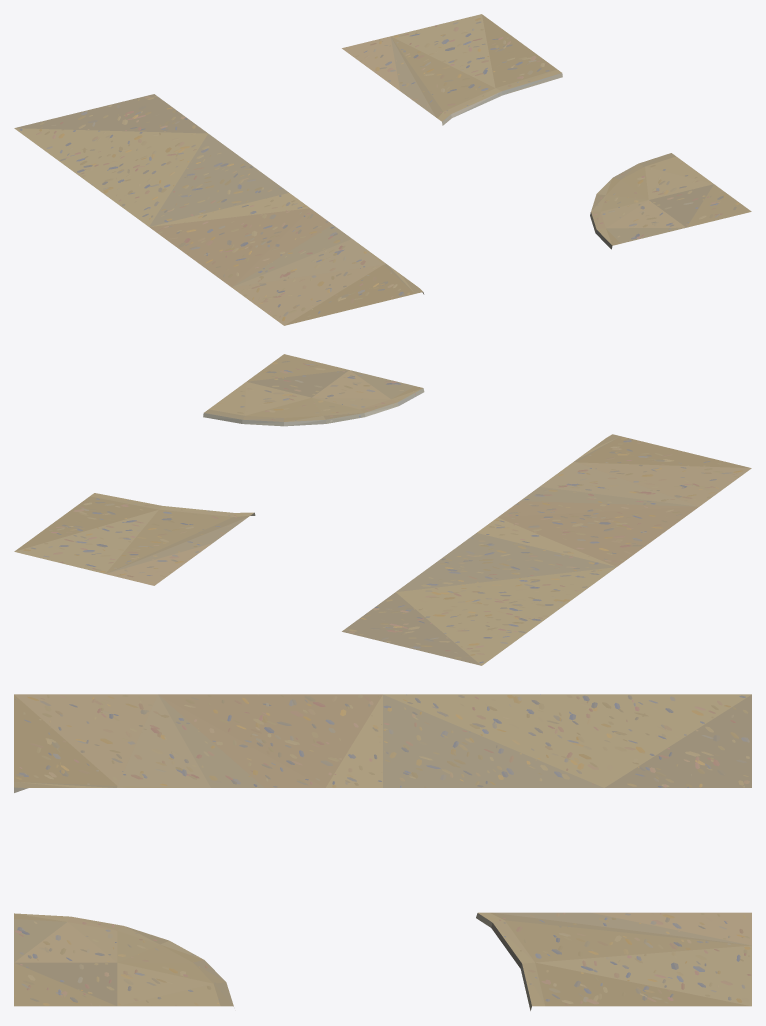
Rendered from HK_RoadRaised_Honmachi.glb.
3 renders of one model, top to bottom at view 1: azimuth 30°, elevation 25°; view 2: azimuth 150°, elevation 25°; view 3: azimuth 270°, elevation 25°, orthographic. The views are drawn at different scales.
Visible parts, largest first — view 1: HK_RoadRaised_Honmachi; view 2: HK_RoadRaised_Honmachi; view 3: HK_RoadRaised_Honmachi.
Boxes of the visible parts, x1=… form: HK_RoadRaised_Honmachi: x1=14, y1=14, x2=751, y2=325; HK_RoadRaised_Honmachi: x1=14, y1=354, x2=751, y2=665; HK_RoadRaised_Honmachi: x1=14, y1=694, x2=751, y2=1010.
Size of the model in its own units: 20 by 0.1627 by 20.
